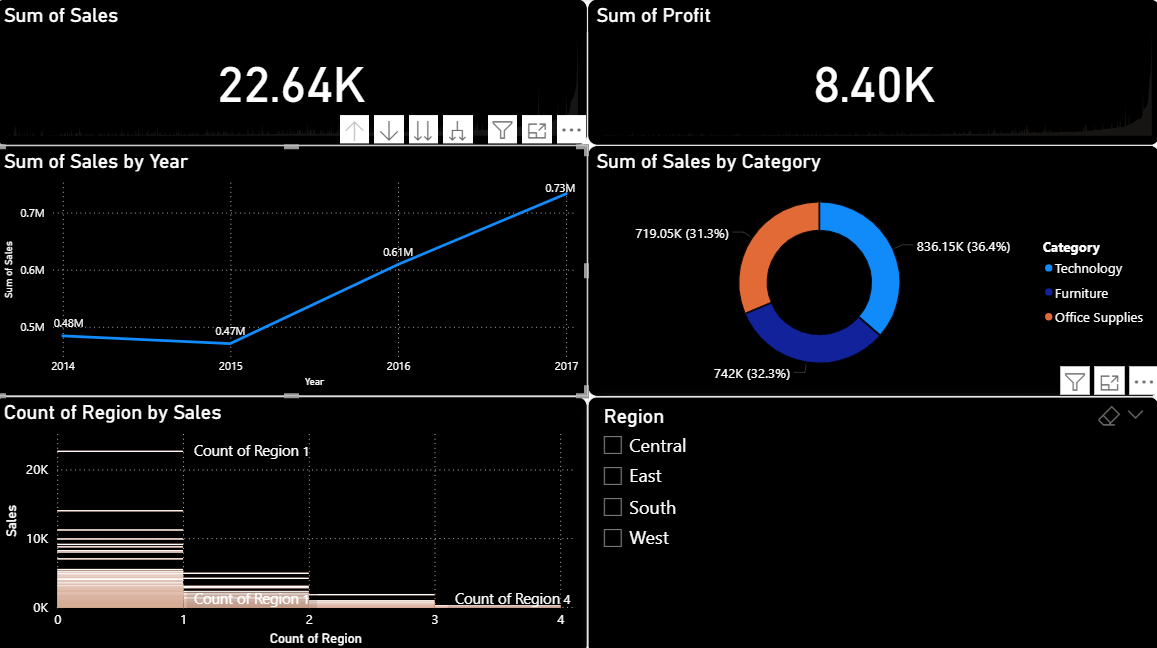

The page's visual inventory and layout, read from the dashboard file:
{"tool":"powerbi","page":{"name":"Page 1","canvas":[1280,720],"ordinal":0},"visuals":[{"type":"lineChart","fields":{"Category":["Sample - Superstore.Order Date.Variation.Date Hierarchy.Year","Sample - Superstore.Order Date.Variation.Date Hierarchy.Month"],"Y":["Sum(Sample - Superstore.Sales)"]},"box":[0,160.5,650.4,275.8],"z":0},{"type":"barChart","fields":{"Y":["Count(Sample - Superstore.Region)"],"Category":["Sample - Superstore.Sales"]},"box":[0,436.4,650.4,284],"z":1000},{"type":"donutChart","fields":{"Category":["Sample - Superstore.Category"],"Y":["Sum(Sample - Superstore.Sales)"]},"box":[650.4,160.5,629.8,275.8],"z":2000},{"type":"slicer","fields":{"Values":["Sample - Superstore.Region"]},"box":[650.4,436.4,628.5,284],"z":3000},{"type":"kpi","title":"Sum of Sales","fields":{"TrendLine":["Sample - Superstore.Sales"],"Indicator":["Sum(Sample - Superstore.Sales)"]},"box":[0,0,650.4,160.5],"z":4000},{"type":"kpi","title":"Sum of Profit ","fields":{"Indicator":["Sum(Sample - Superstore.Profit)"],"TrendLine":["Sample - Superstore.Profit"]},"box":[650.4,0,629.8,160.5],"z":5000}]}

Visuals, with their boxes in screenshot pixels (x1, y1, x2, y2), scaled from the page's 1280x720 canvas onto the 1157x648 screenshot:
lineChart - Sample - Superstore.Order Date.Variation.Date Hierarchy.Year x Sample - Superstore.Order Date.Variation.Date Hierarchy.Month: x1=0, y1=144, x2=588, y2=393
barChart - Count(Sample - Superstore.Region) x Sample - Superstore.Sales: x1=0, y1=393, x2=588, y2=647
donutChart - Sample - Superstore.Category x Sum(Sample - Superstore.Sales): x1=588, y1=144, x2=1156, y2=393
slicer - Sample - Superstore.Region: x1=588, y1=393, x2=1156, y2=647
"Sum of Sales" kpi: x1=0, y1=0, x2=588, y2=144
"Sum of Profit " kpi: x1=588, y1=0, x2=1156, y2=144
